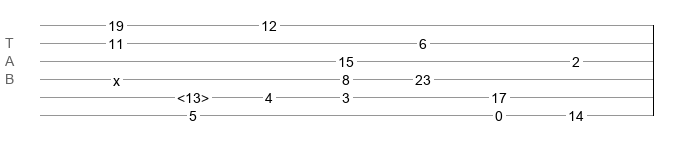0: (495, 108, 503, 118)
11: (108, 36, 124, 46)
12: (261, 18, 277, 28)
14: (568, 108, 584, 118)
15: (338, 54, 354, 64)
17: (491, 90, 507, 100)
19: (108, 18, 124, 28)
2: (572, 54, 580, 64)
23: (415, 72, 431, 82)
3: (342, 90, 350, 100)
4: (265, 90, 273, 100)
5: (189, 108, 197, 118)
6: (419, 36, 427, 46)
8: (342, 72, 350, 82)
harmonic: (177, 90, 209, 100)
x: (113, 73, 120, 81)
